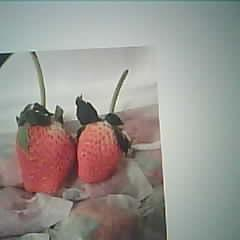straw-ripe: (18, 111, 74, 194), (77, 120, 123, 184)
